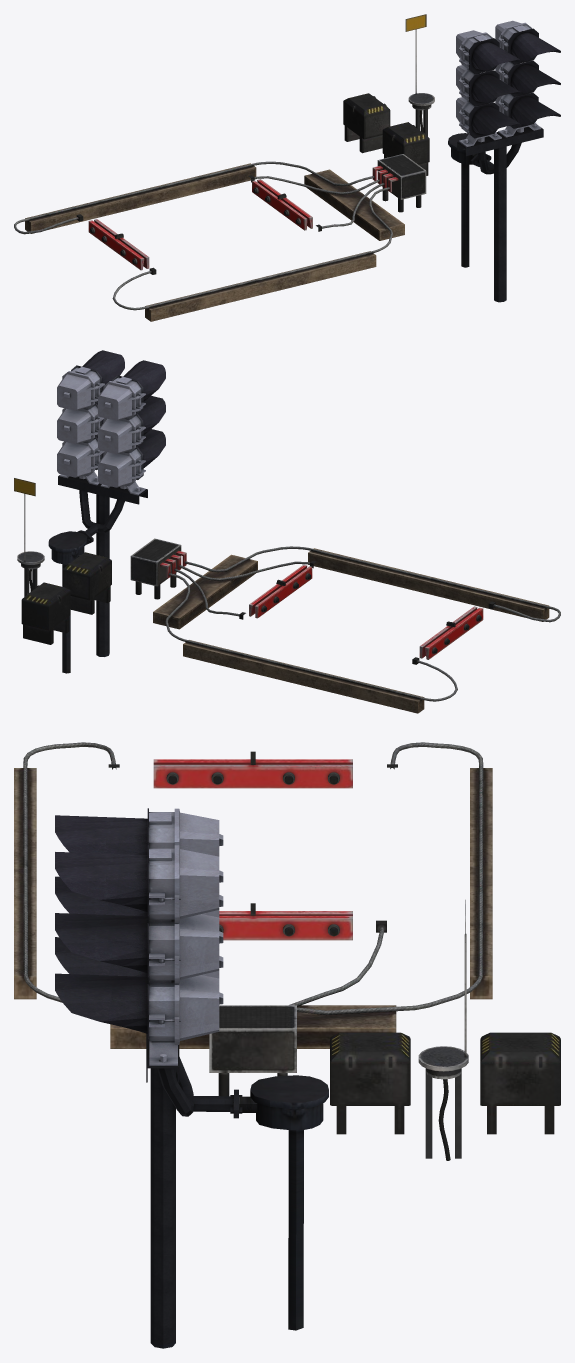
File: RM_sig_KM1_3+3_exit.gltf
3 views of the same model, one above another, from view 1: azimuth 30°, elevation 25°; view 2: azimuth 150°, elevation 25°; view 3: azimuth 270°, elevation 25° (orthographic). The views are drawn at different scales.
Visible parts, largest first — view 1: Изостык, Object_2, Object_1, Object_3; view 2: Изостык, Object_2, Object_1, Object_3; view 3: Изостык, Object_2, Object_1, Object_3.
Part boxes in pixels (x1,y1,x2,y2): Изостык: (14, 14, 434, 321); Object_2: (456, 20, 560, 147); Object_1: (457, 124, 543, 302); Object_3: (448, 133, 477, 267); Изостык: (14, 478, 560, 713); Object_2: (57, 350, 165, 495); Object_1: (58, 475, 147, 656); Object_3: (48, 531, 87, 673); Изостык: (14, 742, 560, 1160); Object_2: (55, 808, 223, 1065); Object_1: (146, 1033, 242, 1348); Object_3: (239, 1075, 328, 1330).
Size of the model in its own units: 4.38 by 2.49 by 2.43.
Materials: 6 (4 with a texture image).
